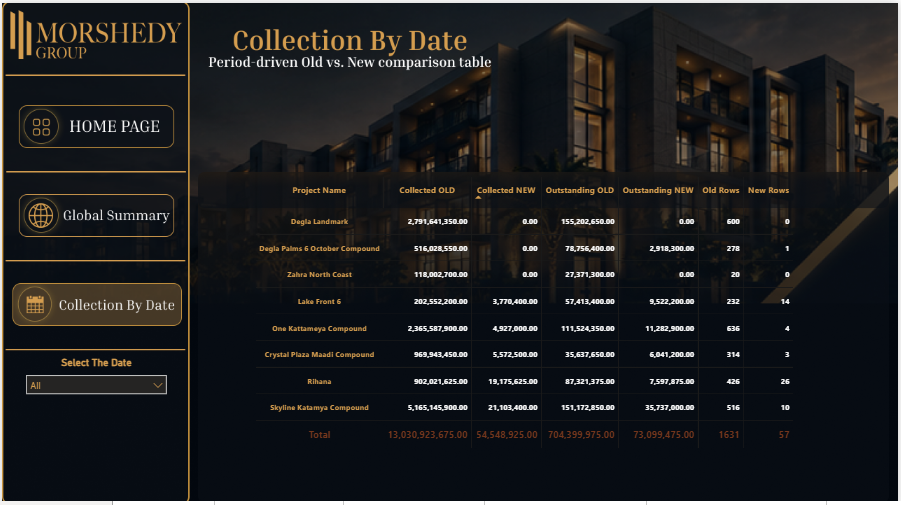

Layout of this report page (visuals, bound fields, positions):
{"tool":"powerbi","page":{"name":"Collection By Date","canvas":[1280,720],"ordinal":2},"visuals":[{"type":"pivotTable","fields":{"Values":["All DAXs.Collected OLD","All DAXs.Collected NEW","All DAXs.Outstanding OLD","All DAXs.Outstanding NEW","All DAXs.OLD Rows","All DAXs.NEW Rows"],"Rows":["All_Projects_Raw.Project Name"]},"box":[357,243,792.4,413.9],"z":0},{"type":"actionButton","box":[28.6,146.8,212.8,62.2],"z":1000},{"type":"actionButton","box":[29.9,273.7,212.8,62.2],"z":2000},{"type":"actionButton","box":[17.4,398.1,238.9,62.2],"z":3000},{"type":"slicer","title":"Select The Date","fields":{"Values":["Date Selection.Date"]},"box":[23.8,506,221.4,69],"z":4000}]}

Visuals, with their boxes in screenshot pixels (x1, y1, x2, y2), scaled from the page's 1280x720 canvas onto the 901x505 screenshot:
pivotTable - All DAXs.Collected OLD x All DAXs.Collected NEW: (x1=251, y1=170, x2=809, y2=461)
actionButton: (x1=20, y1=103, x2=170, y2=147)
actionButton: (x1=21, y1=192, x2=171, y2=236)
actionButton: (x1=12, y1=279, x2=180, y2=323)
"Select The Date" slicer: (x1=17, y1=355, x2=173, y2=403)
